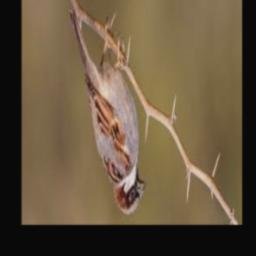Sparrow: (69, 7, 146, 216)
